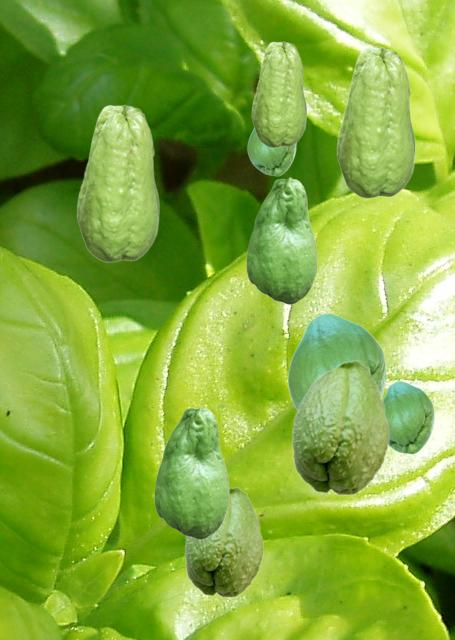sayote: (291, 359, 389, 495), (76, 104, 159, 262), (336, 47, 415, 198), (154, 406, 228, 538), (287, 313, 385, 410), (246, 177, 316, 303), (184, 486, 263, 597), (251, 41, 306, 147), (383, 381, 433, 453), (247, 128, 295, 175)
